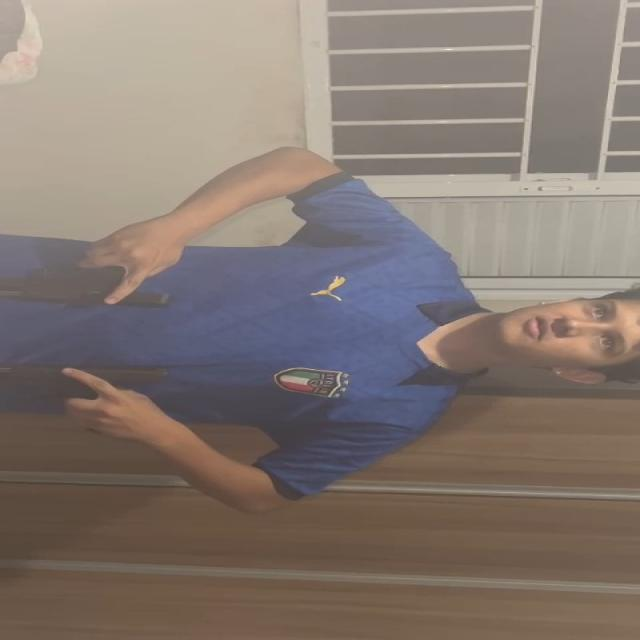gun: (0, 358, 173, 403), (0, 268, 172, 308)
